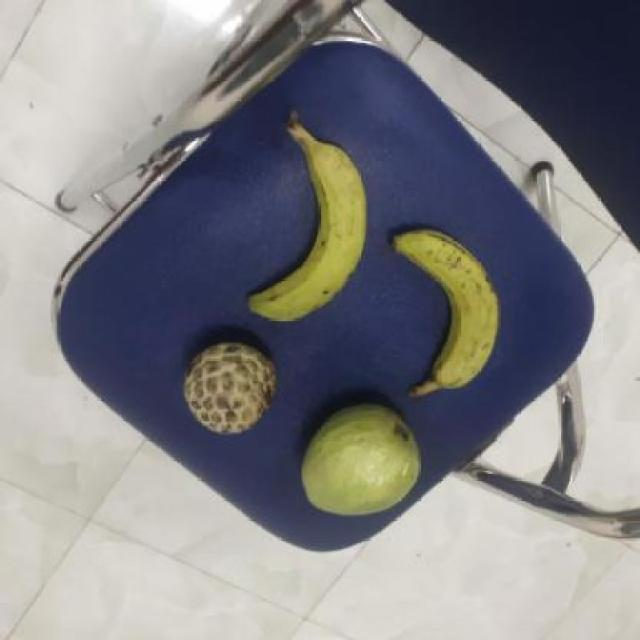banana: (240, 132, 366, 323), (384, 232, 501, 396)
guava: (294, 399, 421, 515)
sugar apple: (177, 341, 272, 436)
